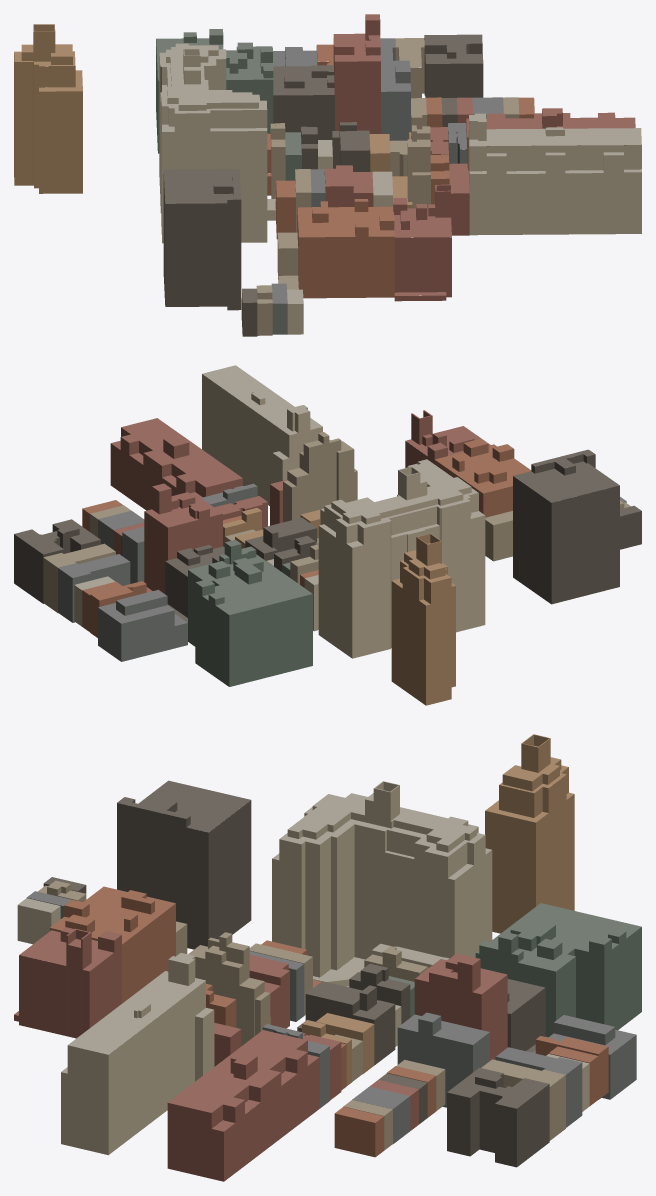
File: tile--1_-5.glb
3 views of the same model, one above another, from view 1: azimuth 30°, elevation 25°; view 2: azimuth 150°, elevation 25°; view 3: azimuth 270°, elevation 25° (orthographic). The views are drawn at different scales.
Visible parts, largest first — view 1: wall, roof; view 2: wall, roof; view 3: wall, roof.
Part boxes in pixels (box(x1,y1,x2,y2)): wall: box(14, 17, 641, 336); roof: box(14, 14, 641, 303); wall: box(14, 374, 641, 705); roof: box(14, 365, 641, 625); wall: box(14, 735, 641, 1181); roof: box(14, 734, 641, 1131).
Bounding box in the file's own units: 226 × 70.29 × 213.
